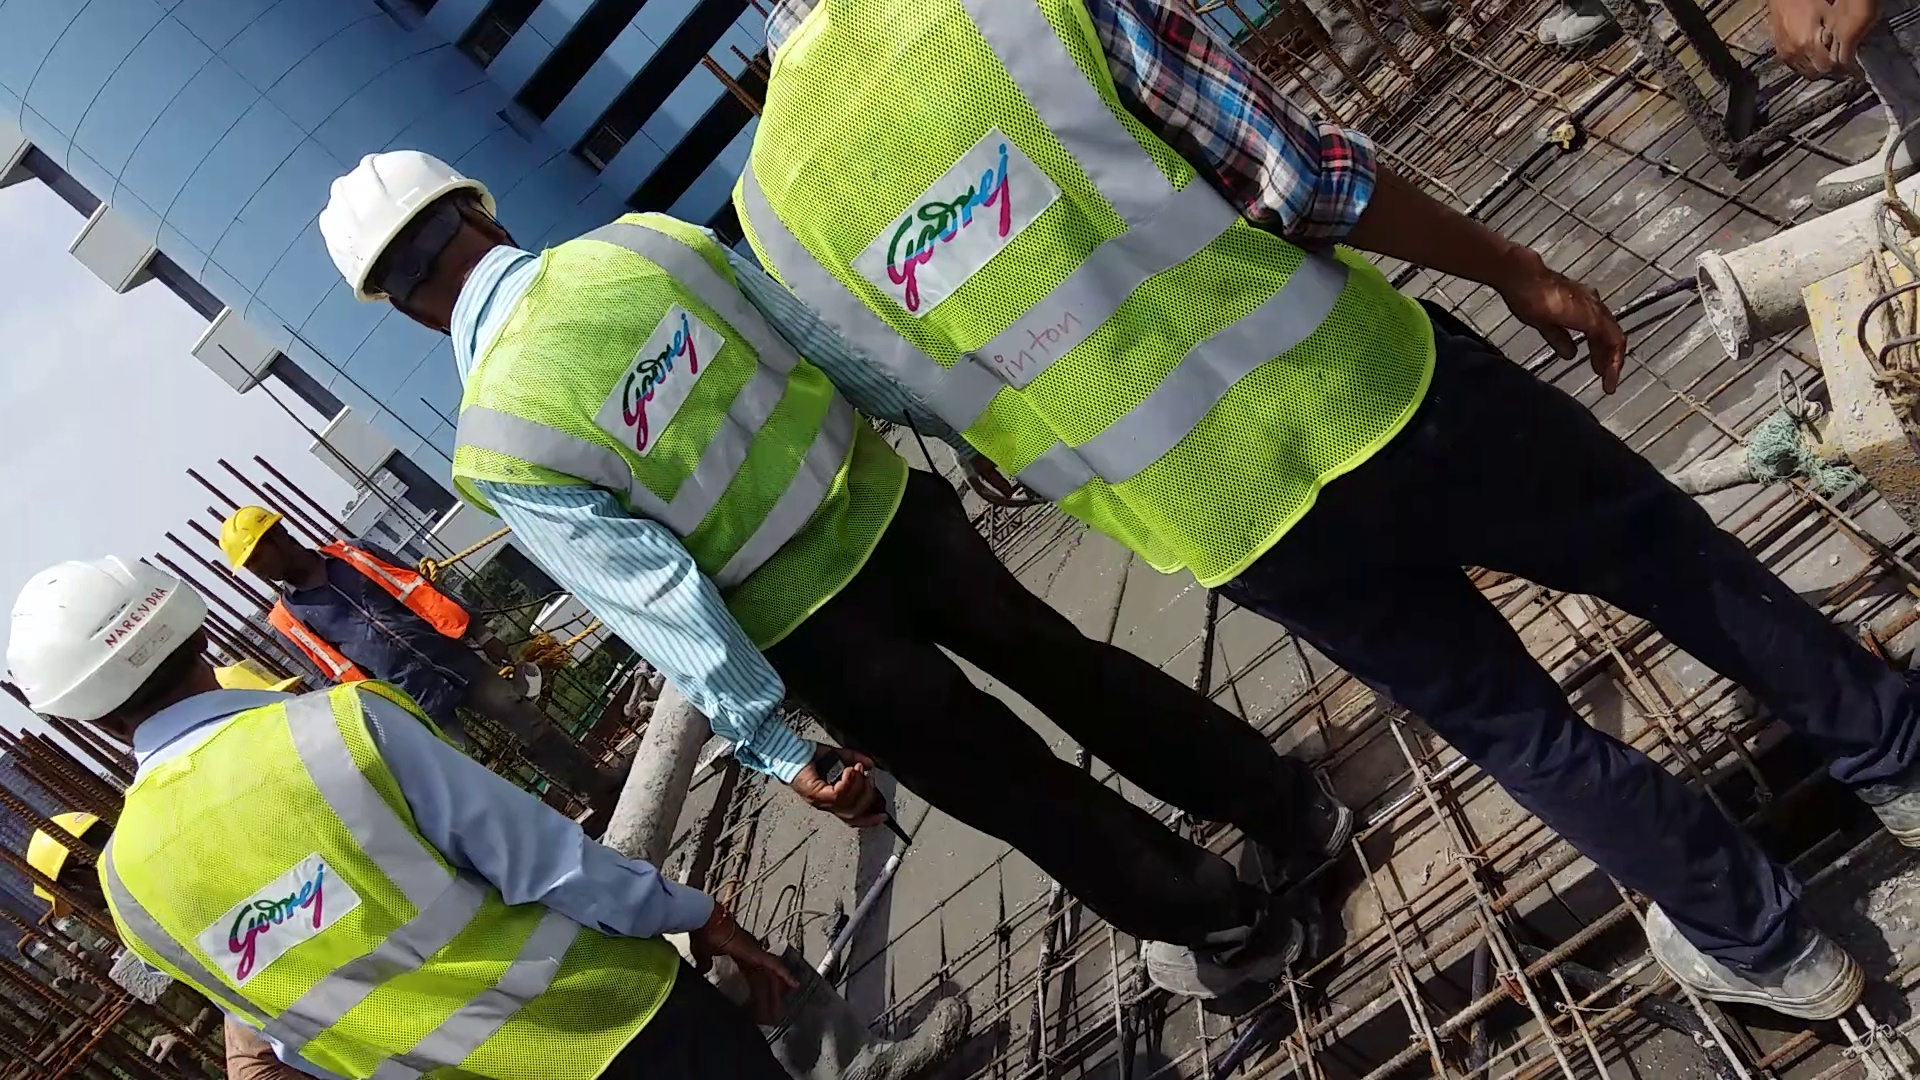NoHardhat: (746, 1, 1425, 579)
SAFE: (5, 562, 663, 1080), (314, 137, 765, 625)
